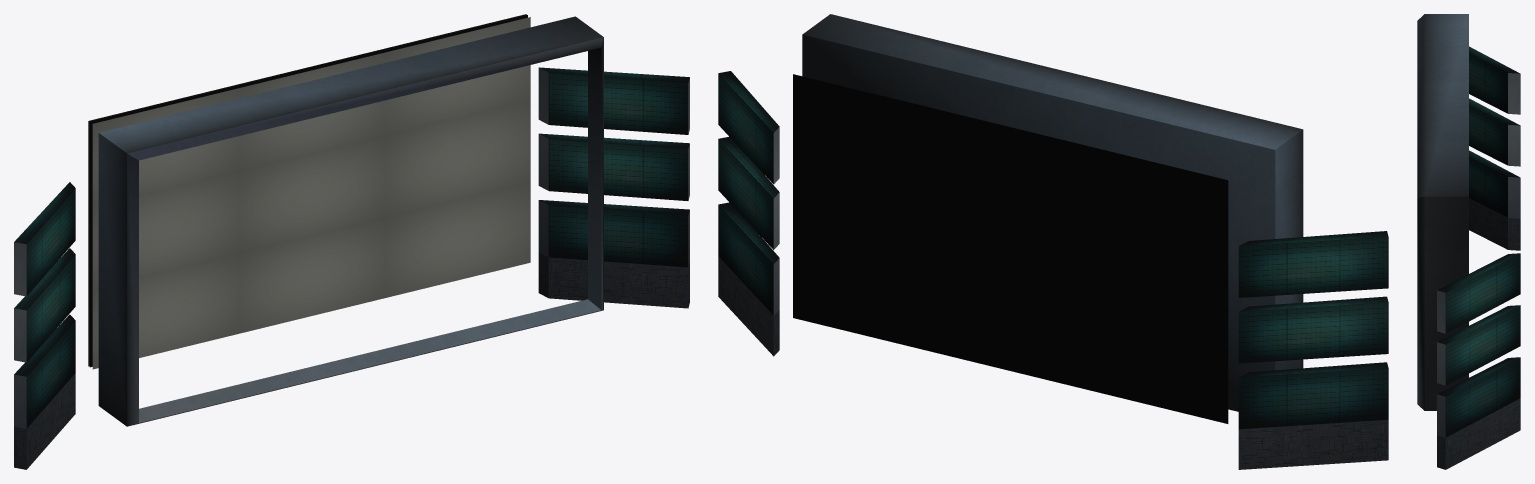
File: screen.glb
3 renders of one model, left to right at view 1: azimuth 30°, elevation 25°; view 2: azimuth 150°, elevation 25°; view 3: azimuth 270°, elevation 25°, orthographic. The views are drawn at different scales.
Visible parts, largest first — view 1: MoniterMain (×3), AuroraVision2, AuroraVision, AuroraVisionBack; view 2: StgStadium00AuroraVision, MoniterMain (×3); view 3: MoniterMain (×3).
Boxes of the visible parts, bbox=[...] form: MoniterMain (×3): bbox=[14, 16, 689, 469]; AuroraVision2: bbox=[92, 17, 530, 369]; AuroraVision: bbox=[89, 15, 527, 367]; AuroraVisionBack: bbox=[88, 14, 526, 366]; StgStadium00AuroraVision: bbox=[793, 74, 1228, 423]; MoniterMain (×3): bbox=[718, 14, 1388, 469]; MoniterMain (×3): bbox=[1417, 14, 1520, 469].
Size of the model in its own units: 382 by 162 by 64.58.
7 materials, 7 textured.
